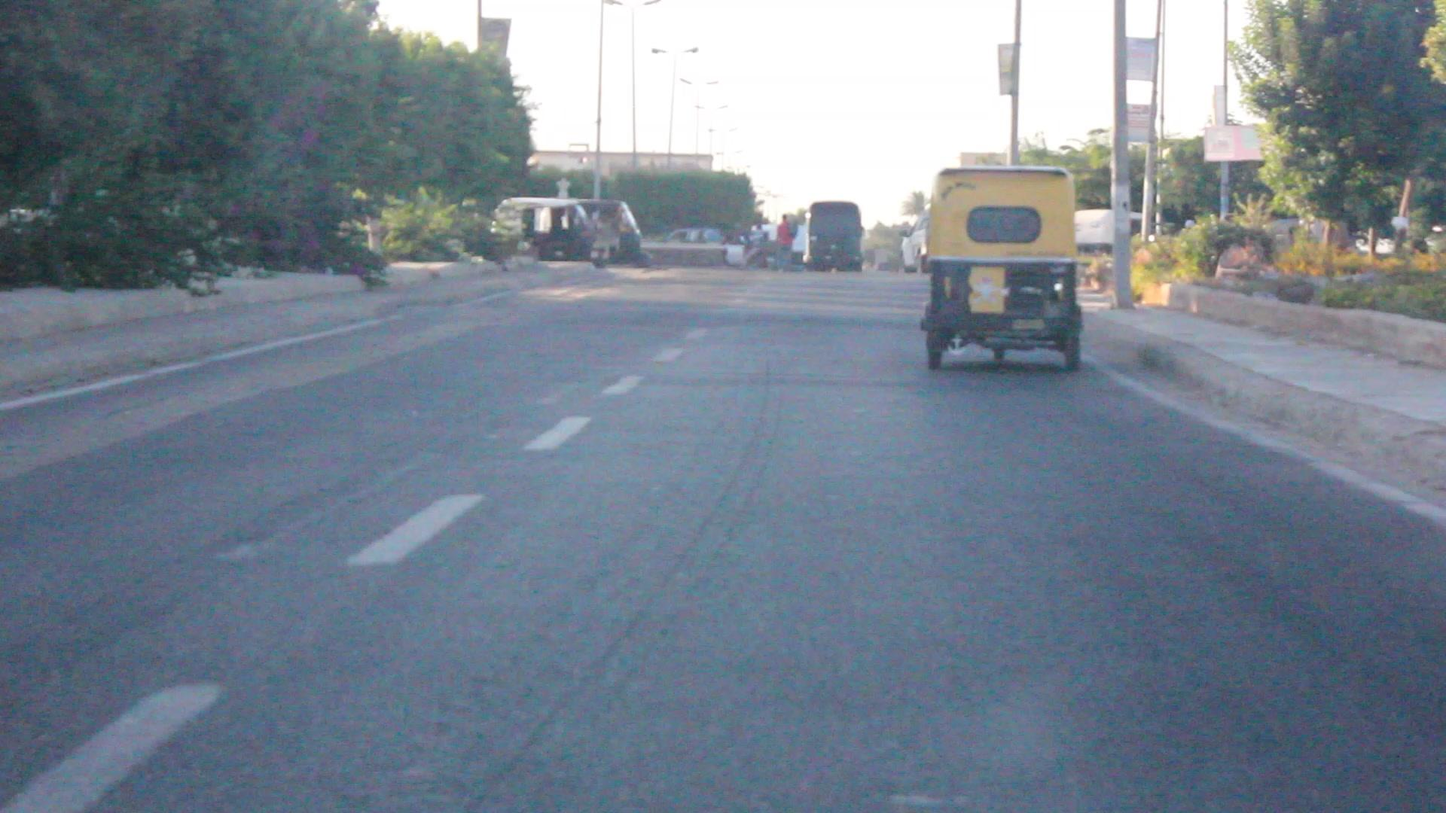Bump: (380, 301, 928, 332)
